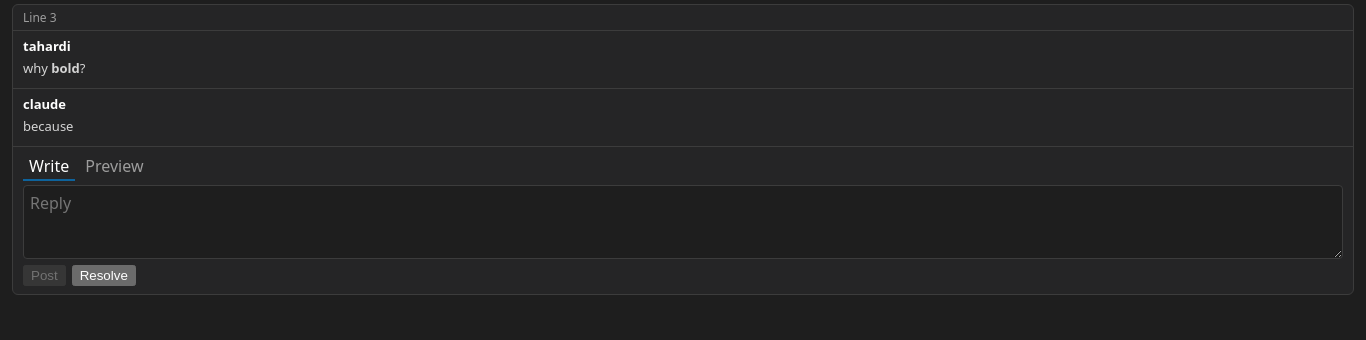
CommentThread › clears the error when a retry posts
This screenshot has width=1366, height=340.
Type "thanks" into the text box labelled "Reply" at (683, 222), box [23,185,1343,259]
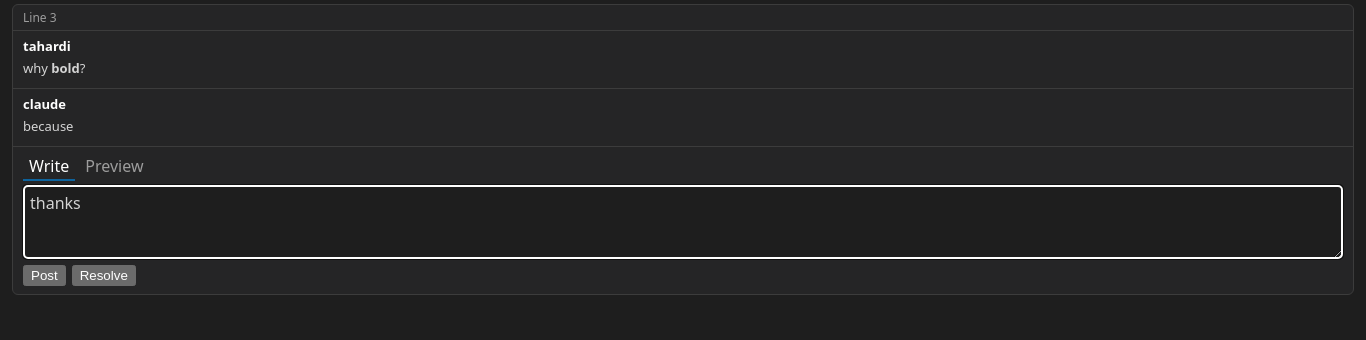
Click the button "Post" at (44, 275), box [23,265,66,286]
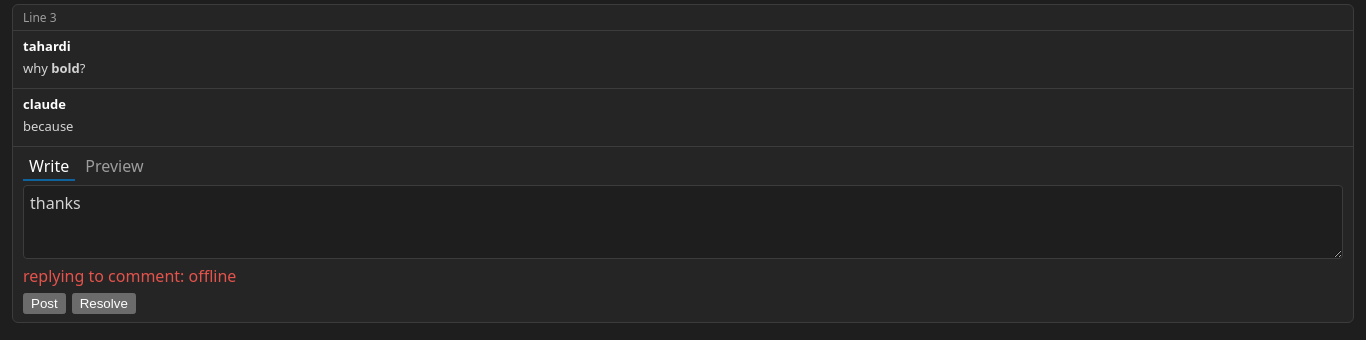
Expected: the message "replying to comment: offline" is shown, [23,265,236,287]
Click the button "Post" at (44, 303), box [23,293,66,314]
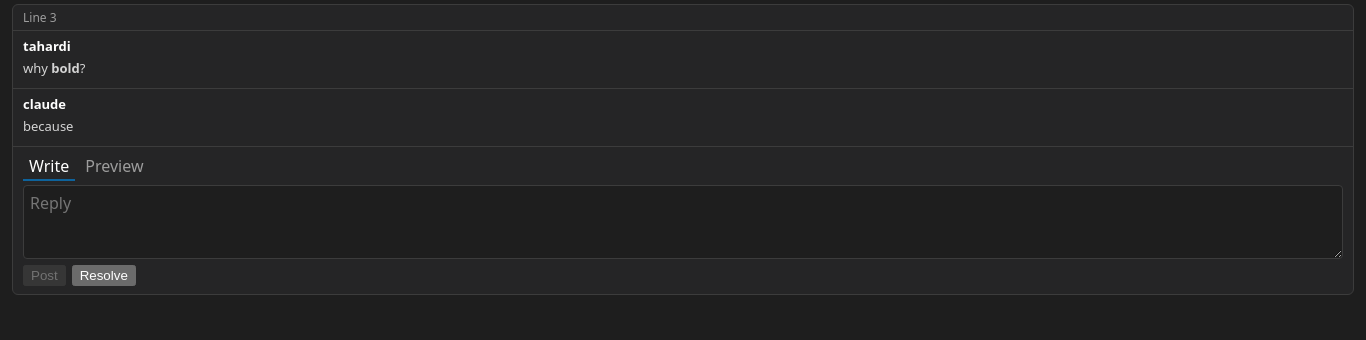
Expected: the message "replying to comment: offline" is gone
